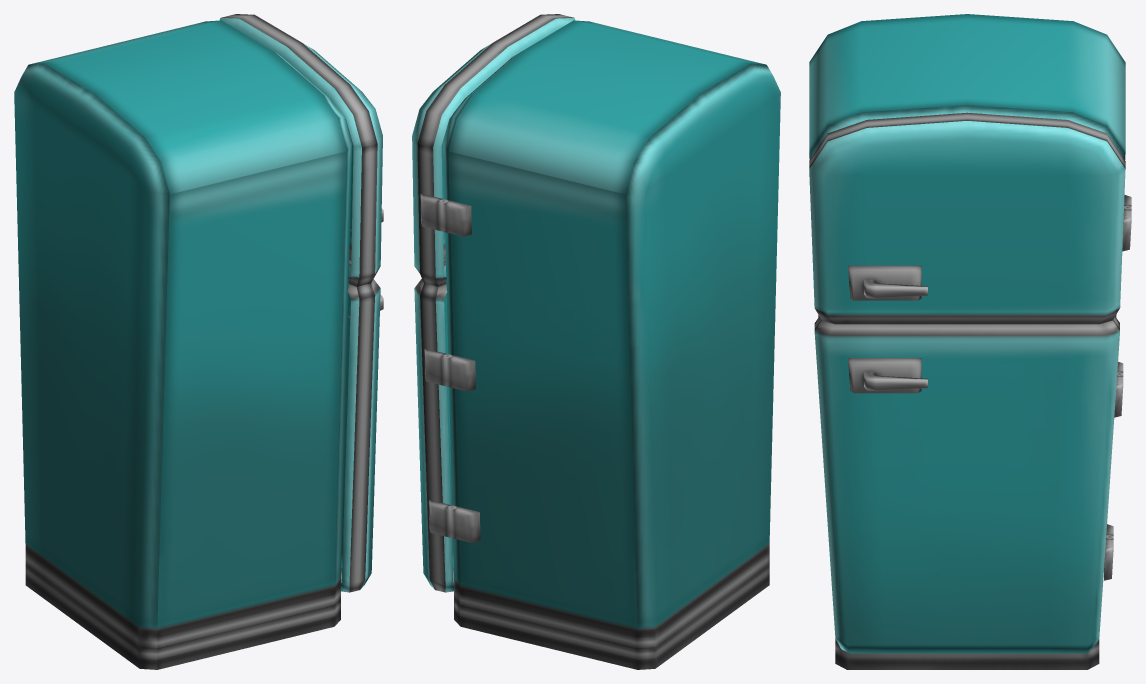
Rendered from assets_fridge.fbx.
3 renders of one model, left to right at view 1: azimuth 30°, elevation 25°; view 2: azimuth 150°, elevation 25°; view 3: azimuth 270°, elevation 25°, orthographic. The views are drawn at different scales.
Visible parts, largest first — view 1: assets_fridge; view 2: assets_fridge; view 3: assets_fridge.
Boxes of the visible parts, x1=… form: assets_fridge: x1=14, y1=14, x2=383, y2=669; assets_fridge: x1=412, y1=14, x2=780, y2=669; assets_fridge: x1=809, y1=14, x2=1131, y2=669.
Size of the model in its own units: 9.03 by 17.93 by 9.38.
